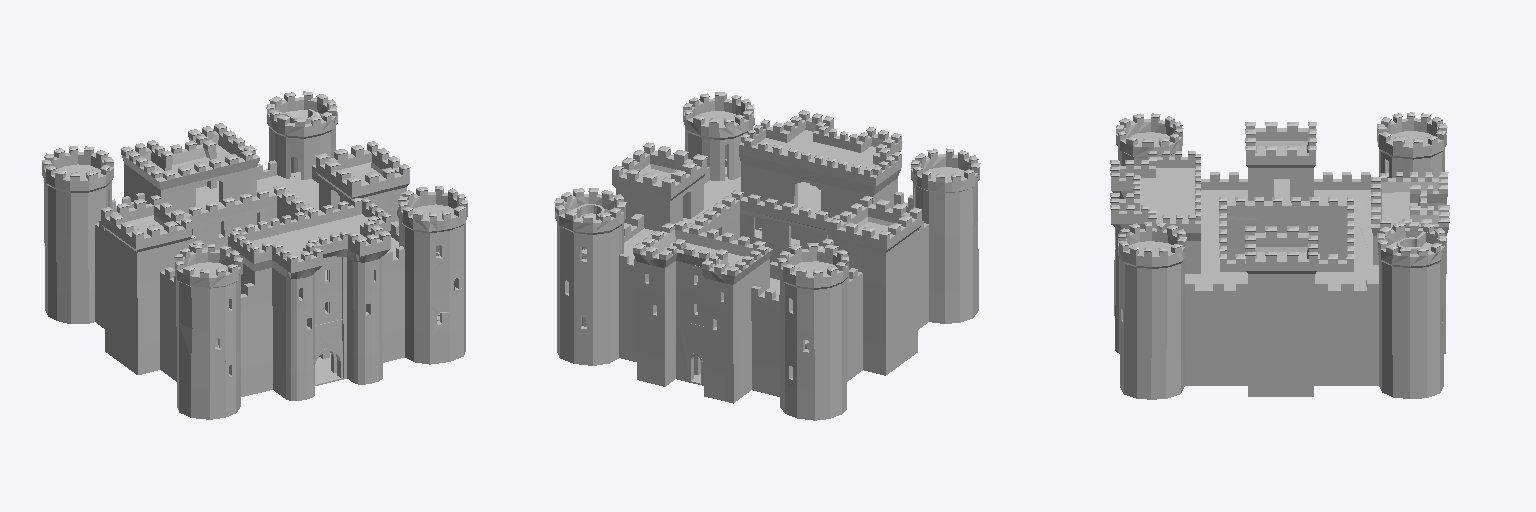
Rendered from castot.obj.
3 renders of one model, left to right at view 1: azimuth 30°, elevation 25°; view 2: azimuth 150°, elevation 25°; view 3: azimuth 270°, elevation 25°, orthographic.
Parts seen in each view (by area): view 1: castle; view 2: castle; view 3: castle.
Part boxes in pixels (bbox=[...]): castle: bbox=[42, 91, 467, 419]; castle: bbox=[554, 92, 980, 420]; castle: bbox=[1110, 112, 1449, 399].
Size of the model in its own units: 201 by 101 by 207.